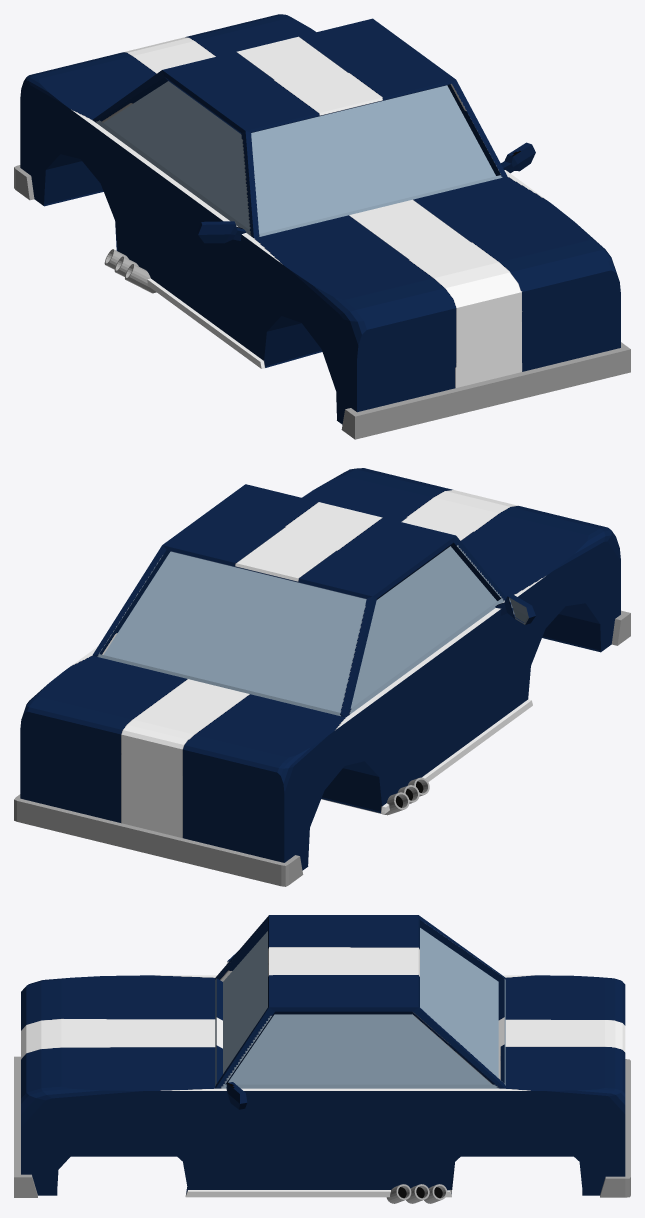
The model's file is stripeSportsCar.fbx.
The picture shows the model from 3 angles, top to bottom: view 1: azimuth 30°, elevation 25°; view 2: azimuth 150°, elevation 25°; view 3: azimuth 270°, elevation 25°; orthographic projection. The views are drawn at different scales.
Parts seen in each view (by area): view 1: Body; view 2: Body; view 3: Body.
Part boxes in pixels (bbox=[...]): Body: bbox=[14, 14, 630, 439]; Body: bbox=[14, 468, 630, 886]; Body: bbox=[14, 915, 630, 1203].
Size of the model in its own units: 380 by 223 by 669.
1 material, 1 textured.
